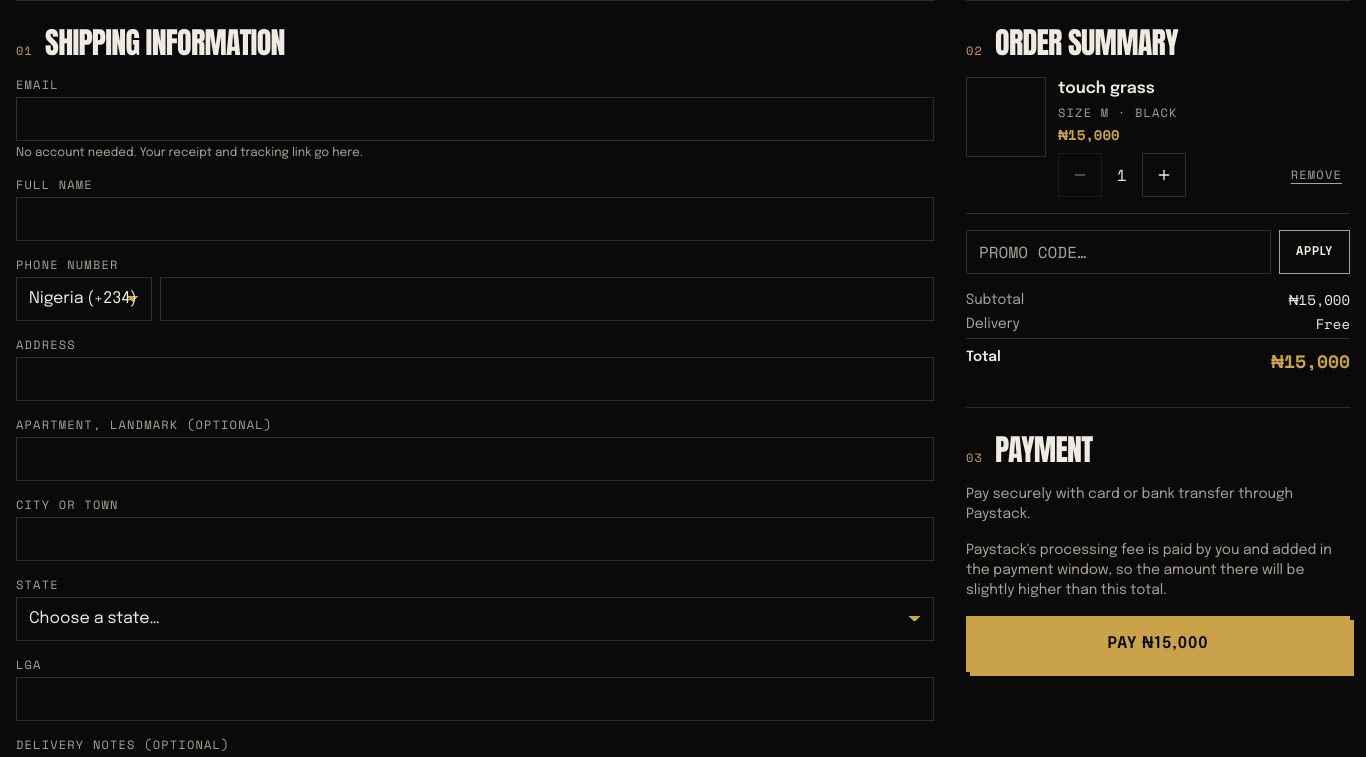
Test case: CheckoutPage › flags missing delivery details when paying
Click the button "Pay ₦15,000" at [1158, 644], box [966,616,1350,672]
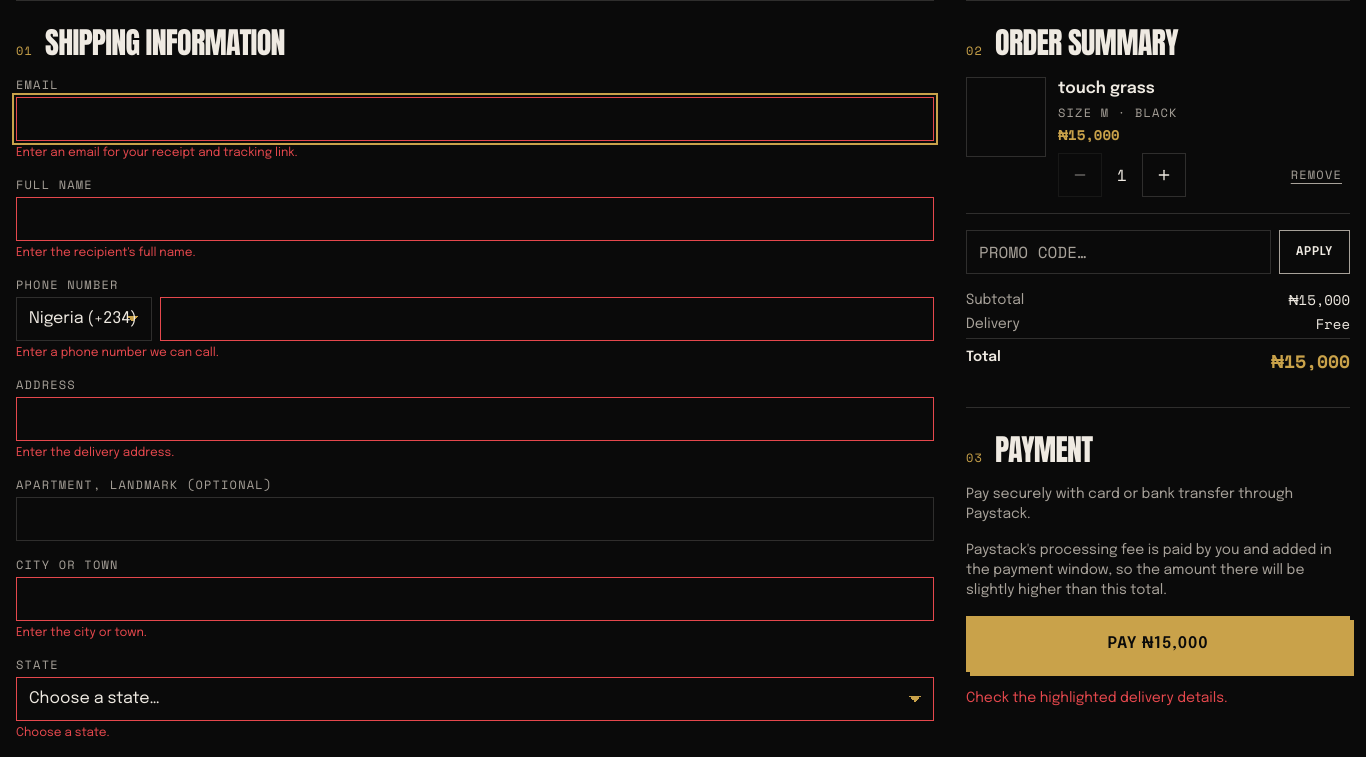
Expected: the message reads "Check the highlighted delivery details.", [966,691,1228,705]
Expected: the text "Enter the recipient's full name." is shown, [16,247,196,259]
